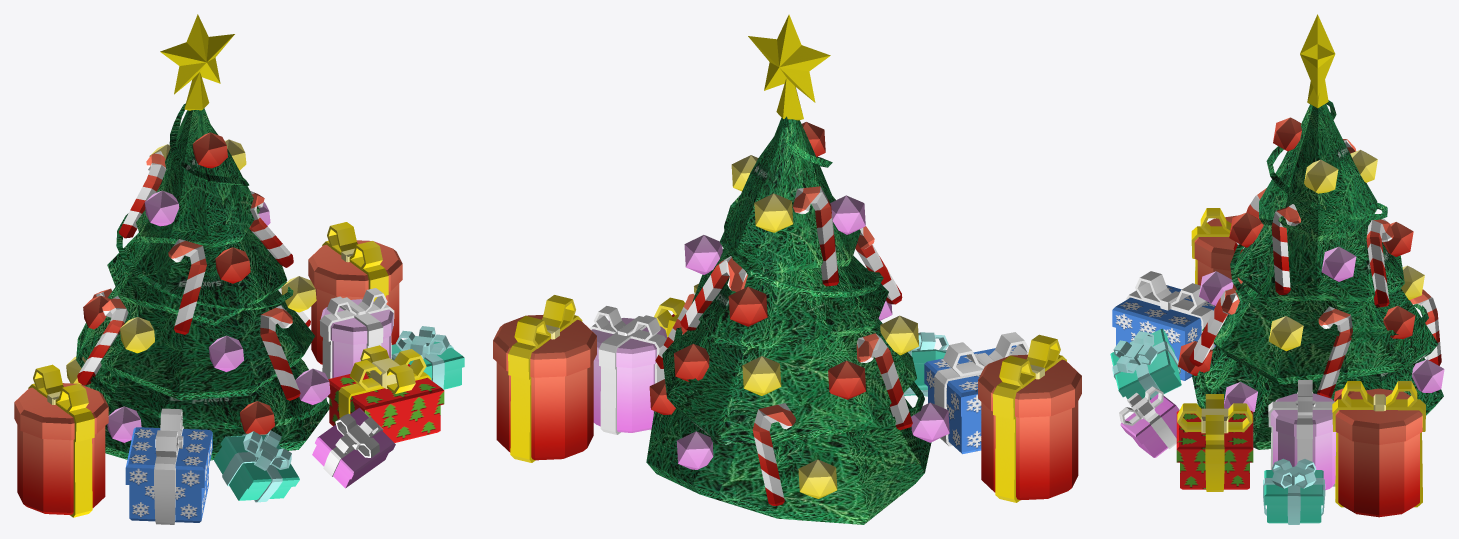
The model's file is arbol.obj.
The picture shows the model from 3 angles, left to right: view 1: azimuth 30°, elevation 25°; view 2: azimuth 150°, elevation 25°; view 3: azimuth 270°, elevation 25°; orthographic projection. The views are drawn at different scales.
Parts seen in each view (by area): view 1: Christmas_Tree, Christmas_Present_01, Christmas_Present_009, Christmas_Present_04, Christmas_Present_008, Christmas_Present_02, Christmas_Present_07, Christmas_Present_05, estrella, Christmas_Present_06, Christmas_Tree_Candy002, Christmas_Tree_Candy (+13 smaller); view 2: Christmas_Tree, Christmas_Present_008, Christmas_Present_01, Christmas_Present_02, Christmas_Present_009, estrella, Christmas_Tree_Candy007, Christmas_Tree_Candy004, Christmas_Tree_Candy003, Christmas_Tree_Candy005, Christmas_Tree_051, Christmas_Tree_Ball_005 (+12 smaller); view 3: Christmas_Tree, Christmas_Present_008, Christmas_Present_04, Christmas_Present_009, Christmas_Present_02, Christmas_Present_07, Christmas_Present_06, Christmas_Present_05, Christmas_Present_01, estrella, Christmas_Tree_Candy006, Christmas_Tree_Candy005 (+16 smaller).
Part boxes in pixels (x1=…): Christmas_Tree: x1=76, y1=103, x2=329, y2=460; Christmas_Present_01: x1=14, y1=364, x2=108, y2=517; Christmas_Present_009: x1=125, y1=408, x2=212, y2=524; Christmas_Present_04: x1=328, y1=345, x2=444, y2=442; Christmas_Present_008: x1=308, y1=222, x2=402, y2=364; Christmas_Present_02: x1=319, y1=288, x2=394, y2=398; Christmas_Present_07: x1=213, y1=430, x2=299, y2=502; Christmas_Present_05: x1=312, y1=407, x2=395, y2=488; estrella: x1=160, y1=14, x2=234, y2=110; Christmas_Present_06: x1=391, y1=326, x2=464, y2=389; Christmas_Tree_Candy002: x1=168, y1=239, x2=206, y2=334; Christmas_Tree_Candy: x1=260, y1=305, x2=300, y2=400; Christmas_Tree: x1=646, y1=116, x2=931, y2=524; Christmas_Present_008: x1=493, y1=295, x2=596, y2=462; Christmas_Present_01: x1=978, y1=334, x2=1081, y2=502; Christmas_Present_02: x1=589, y1=306, x2=667, y2=434; Christmas_Present_009: x1=924, y1=332, x2=1029, y2=454; estrella: x1=748, y1=14, x2=830, y2=120; Christmas_Tree_Candy007: x1=752, y1=403, x2=795, y2=505; Christmas_Tree_Candy004: x1=793, y1=186, x2=839, y2=286; Christmas_Tree_Candy003: x1=856, y1=333, x2=912, y2=430; Christmas_Tree_Candy005: x1=680, y1=256, x2=747, y2=330; Christmas_Tree_051: x1=728, y1=286, x2=767, y2=326; Christmas_Tree_Ball_005: x1=742, y1=356, x2=781, y2=395; Christmas_Tree: x1=1191, y1=100, x2=1443, y2=449; Christmas_Present_008: x1=1332, y1=381, x2=1425, y2=517; Christmas_Present_04: x1=1176, y1=394, x2=1253, y2=491; Christmas_Present_009: x1=1112, y1=271, x2=1215, y2=380; Christmas_Present_02: x1=1268, y1=380, x2=1336, y2=490; Christmas_Present_07: x1=1110, y1=328, x2=1181, y2=399; Christmas_Present_06: x1=1263, y1=458, x2=1325, y2=524; Christmas_Present_05: x1=1119, y1=386, x2=1179, y2=457; Christmas_Present_01: x1=1191, y1=208, x2=1242, y2=290; estrella: x1=1300, y1=14, x2=1335, y2=108; Christmas_Tree_Candy006: x1=1317, y1=306, x2=1352, y2=398; Christmas_Tree_Candy005: x1=1366, y1=219, x2=1393, y2=307.
Size of the model in its own units: 416 by 364 by 271.
3 materials, 3 textured.
